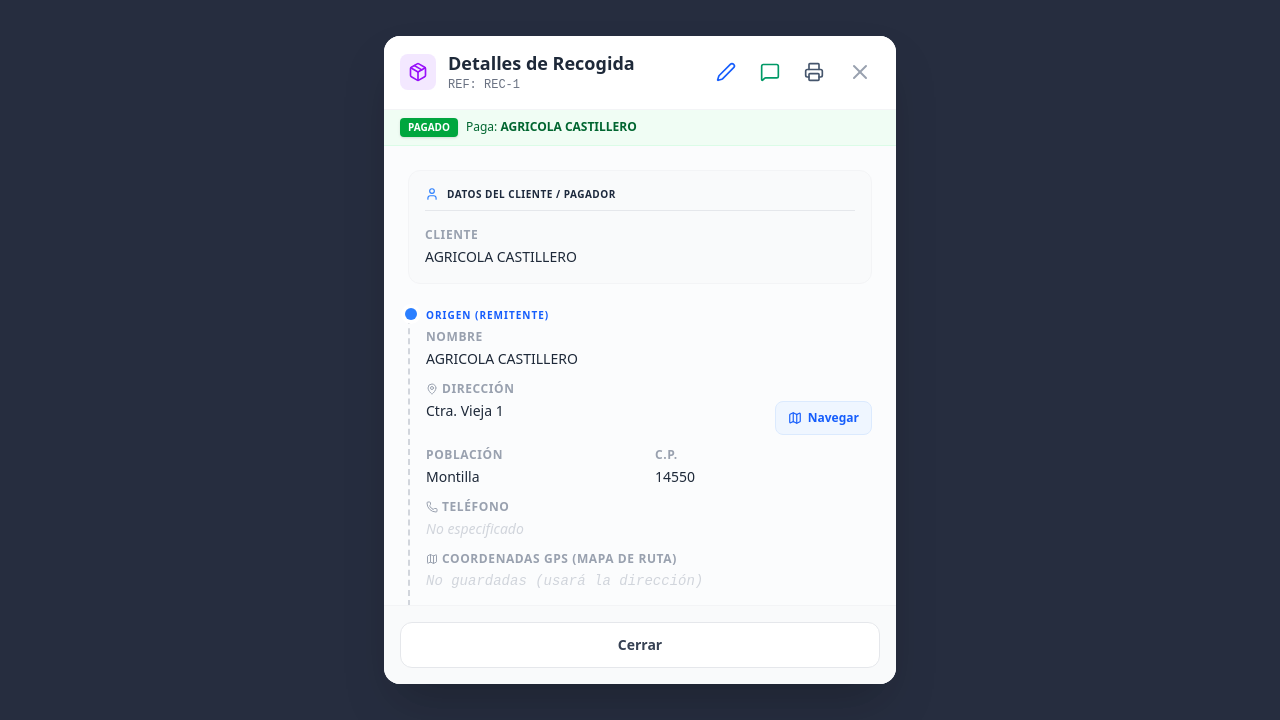
Test case: ShipmentDetailsModal: borrar desde Editar › sin función de borrar, editar no enseña Borrar
This screenshot has width=1280, height=720.
Click the button titled "Editar": (726, 72) [708,54,744,90]
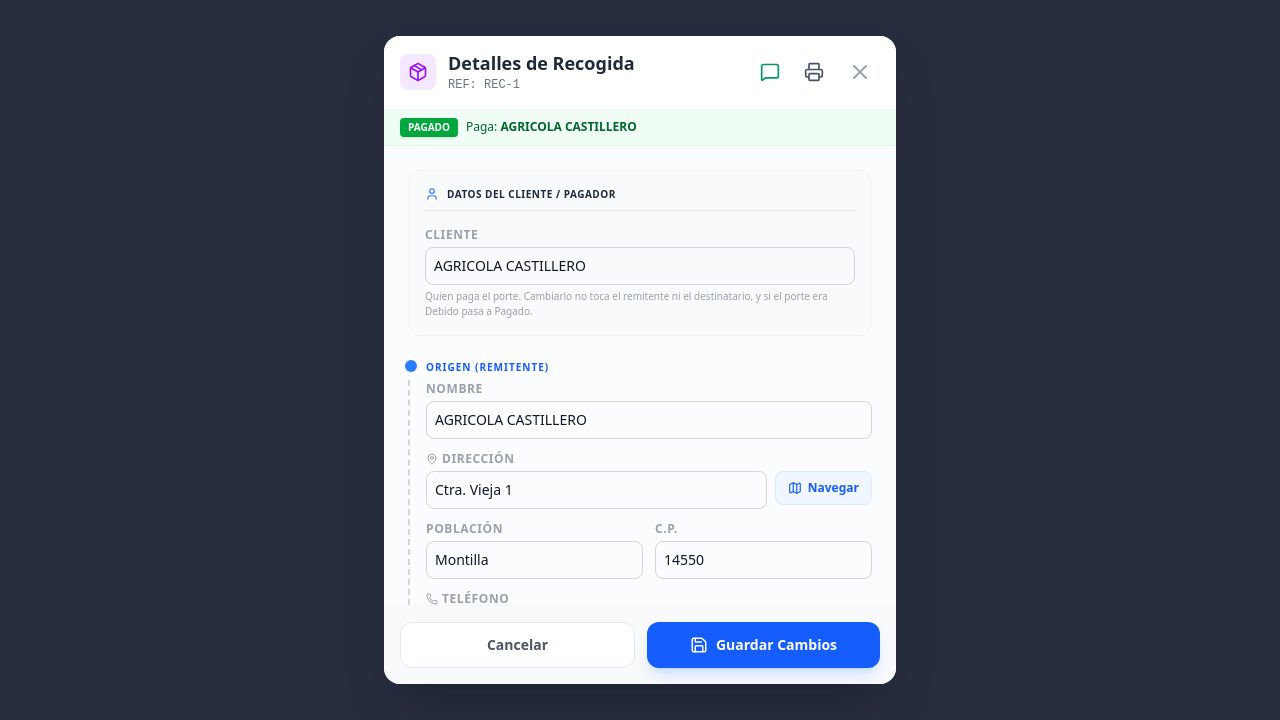
Now the button "Guardar Cambios" is shown, box [647,622,880,668]
